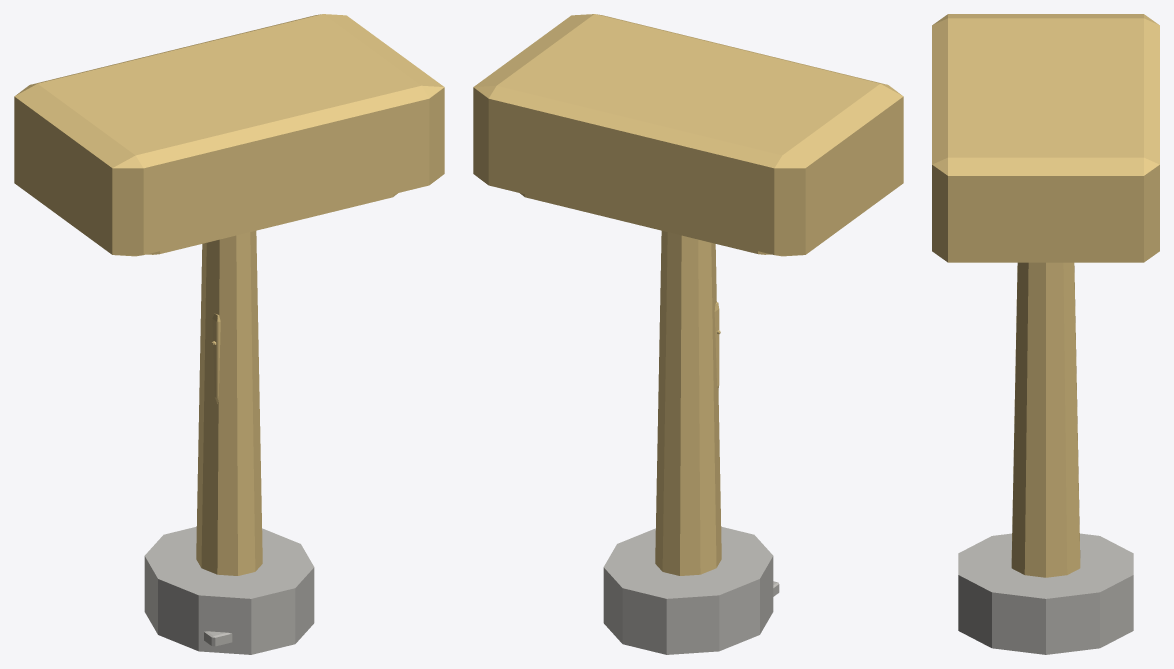
Rendered from b18_civic_bell_memorial.glb.
The picture shows the model from 3 angles, left to right: view 1: azimuth 30°, elevation 25°; view 2: azimuth 150°, elevation 25°; view 3: azimuth 270°, elevation 25°; orthographic projection.
Visible parts, largest first — view 1: b18_civic_bell_memorial; view 2: b18_civic_bell_memorial; view 3: b18_civic_bell_memorial.
Boxes of the visible parts, x1,y1,x2,y2 form: b18_civic_bell_memorial: (14,14,444,654); b18_civic_bell_memorial: (473,14,903,654); b18_civic_bell_memorial: (932,14,1159,654).
Size of the model in its own units: 1.55 by 2.38 by 0.921.
